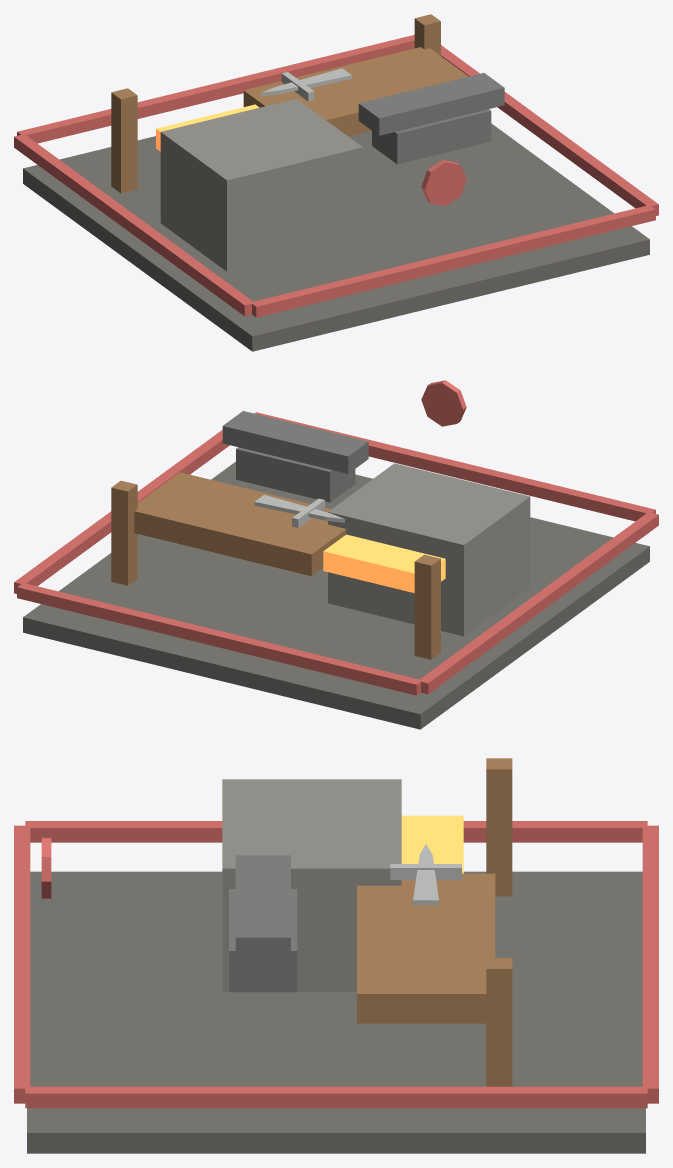
Rendered from t5_weapon_smith.glb.
3 views of the same model, one above another, from view 1: azimuth 30°, elevation 25°; view 2: azimuth 150°, elevation 25°; view 3: azimuth 270°, elevation 25° (orthographic). The views are drawn at different scales.
Parts seen in each view (by area): view 1: FootprintBase, ForgeBody, WorkTable, TierFrontTrim, TierBackTrim, AnvilTop, TierLeftTrim, AnvilBody, TierRightTrim, RackPostL, TierEmblem, RackPostR (+2 smaller); view 2: FootprintBase, ForgeBody, WorkTable, TierBackTrim, AnvilTop, TierFrontTrim, TierLeftTrim, ForgeGlow, AnvilBody, TierRightTrim, RackPostL, RackPostR (+2 smaller); view 3: FootprintBase, ForgeBody, WorkTable, TierRightTrim, TierLeftTrim, AnvilTop, TierBackTrim, TierFrontTrim, RackPostL, RackPostR, AnvilBody, ForgeGlow (+3 smaller).
Boxes of the visible parts, <box> form: FootprintBase: <box>23,123,649,351</box>; ForgeBody: <box>160,98,362,271</box>; WorkTable: <box>243,47,468,136</box>; TierFrontTrim: <box>250,205,655,317</box>; TierBackTrim: <box>17,35,414,143</box>; AnvilTop: <box>358,73,504,135</box>; TierLeftTrim: <box>14,134,252,316</box>; AnvilBody: <box>372,109,491,164</box>; TierRightTrim: <box>441,45,658,215</box>; RackPostL: <box>111,88,137,193</box>; TierEmblem: <box>421,160,466,206</box>; RackPostR: <box>414,14,440,55</box>; FootprintBase: <box>23,461,649,729</box>; ForgeBody: <box>328,463,530,636</box>; WorkTable: <box>134,472,346,576</box>; TierBackTrim: <box>17,583,422,695</box>; AnvilTop: <box>222,411,368,473</box>; TierFrontTrim: <box>254,412,655,521</box>; TierLeftTrim: <box>418,512,658,694</box>; ForgeGlow: <box>323,534,445,592</box>; AnvilBody: <box>236,447,355,502</box>; TierRightTrim: <box>14,430,229,593</box>; RackPostL: <box>414,554,440,659</box>; RackPostR: <box>111,480,137,585</box>; FootprintBase: <box>27,871,645,1153</box>; ForgeBody: <box>222,779,401,991</box>; WorkTable: <box>357,873,495,1023</box>; TierRightTrim: <box>25,1086,647,1108</box>; TierLeftTrim: <box>25,821,647,842</box>; AnvilTop: <box>235,855,290,961</box>; TierBackTrim: <box>642,825,658,1103</box>; TierFrontTrim: <box>14,825,30,1103</box>; RackPostL: <box>486,758,512,896</box>; RackPostR: <box>486,958,512,1086</box>; AnvilBody: <box>229,889,297,992</box>; ForgeGlow: <box>401,815,463,873</box>.
Size of the model in its own units: 3.96 by 1.25 by 3.96.
